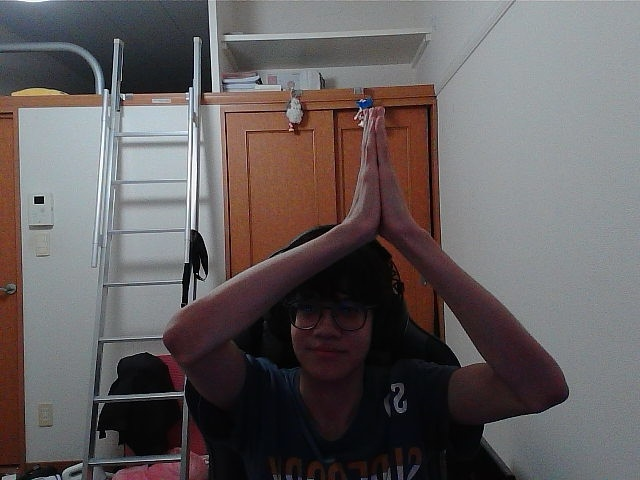pray: (363, 120, 377, 218)
